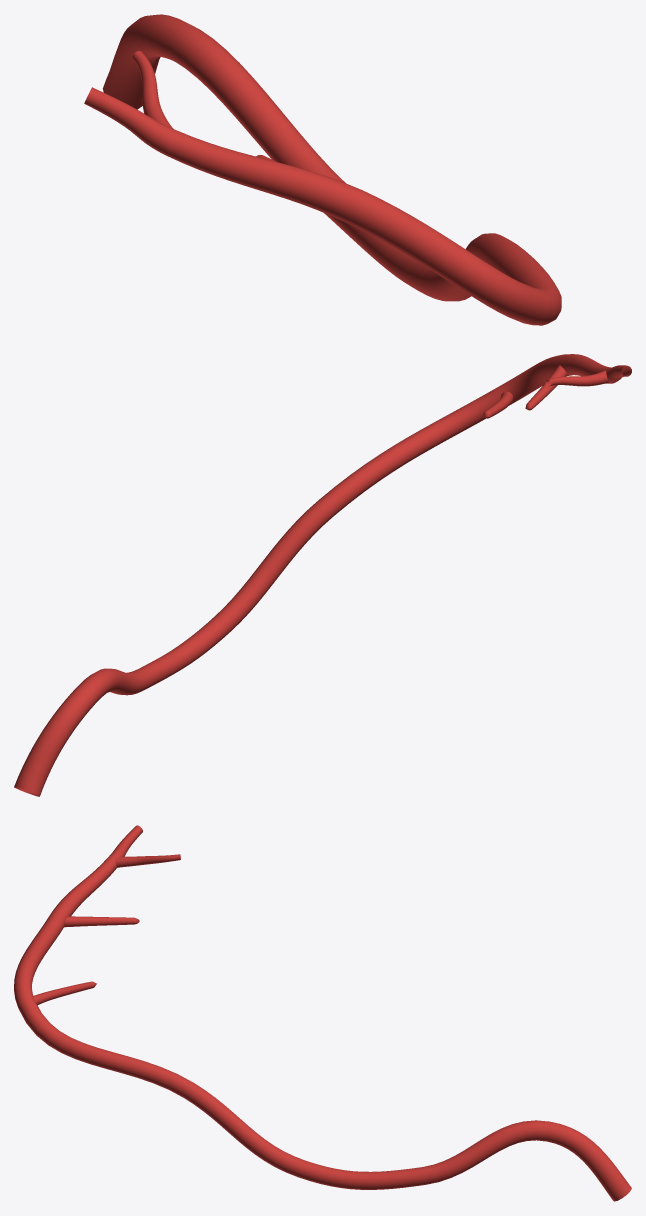
3 views of the same model, one above another, from view 1: azimuth 30°, elevation 25°; view 2: azimuth 150°, elevation 25°; view 3: azimuth 270°, elevation 25° (orthographic). The views are drawn at different scales.
Parts seen in each view (by area): view 1: 右侧肾上腺下动脉; view 2: 右侧肾上腺下动脉; view 3: 右侧肾上腺下动脉.
Boxes of the visible parts, <box> form: 右侧肾上腺下动脉: <box>84,14,561,325</box>; 右侧肾上腺下动脉: <box>14,354,631,796</box>; 右侧肾上腺下动脉: <box>14,825,631,1201</box>.
Size of the model in its own units: 0.0404 by 0.0348 by 0.0785.
